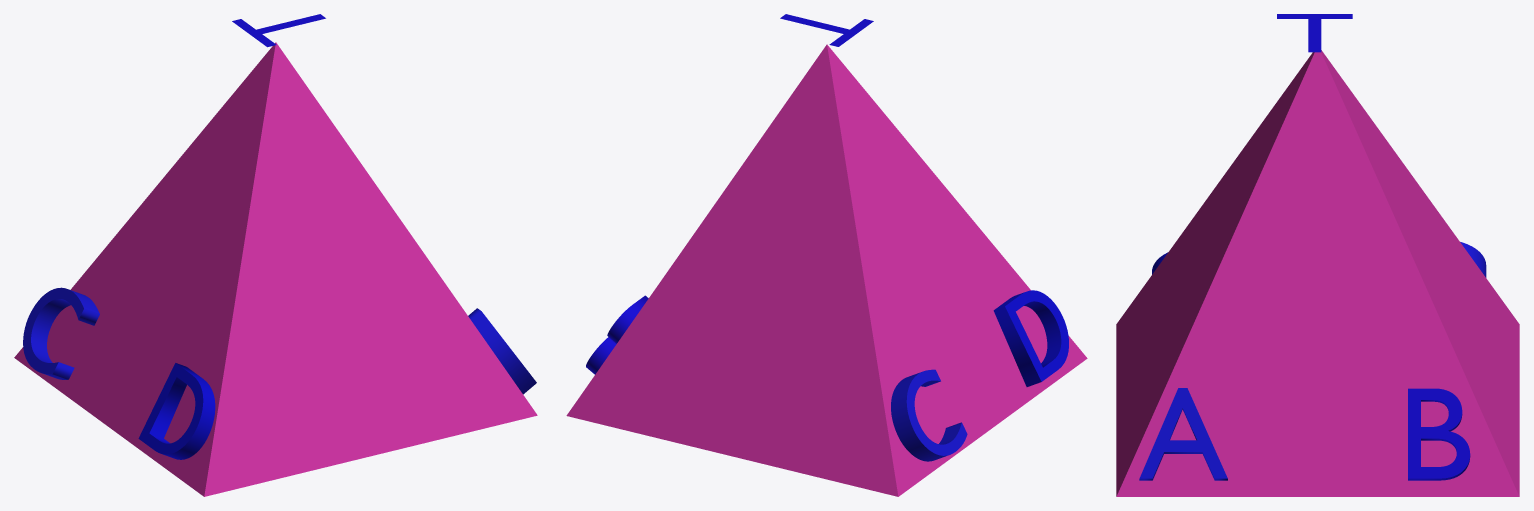
The model's file is limasd.fbx.
3 views of the same model, side by side, from view 1: azimuth 30°, elevation 25°; view 2: azimuth 150°, elevation 25°; view 3: azimuth 270°, elevation 25° (orthographic). The views are drawn at different scales.
Parts seen in each view (by area): view 1: Cube, Text.002, Text, Text.003, Text.004; view 2: Cube, Text.002, Text, Text.001, Text.004; view 3: Cube, Text.001, Text.003, Text.004.
Boxes of the visible parts, x1,y1,x2,y2 form: Cube: (14, 42, 537, 496); Text.002: (138, 363, 215, 459); Text: (23, 287, 99, 379); Text.003: (468, 308, 536, 394); Text.004: (232, 14, 325, 47); Cube: (566, 44, 1087, 496); Text.002: (993, 290, 1068, 386); Text: (891, 369, 967, 461); Text.001: (586, 295, 648, 374); Text.004: (780, 14, 873, 46); Cube: (1116, 50, 1519, 496); Text.001: (1408, 388, 1470, 480); Text.003: (1139, 388, 1227, 480); Text.004: (1277, 14, 1352, 52).
Size of the model in its own units: 334 by 318 by 304.
